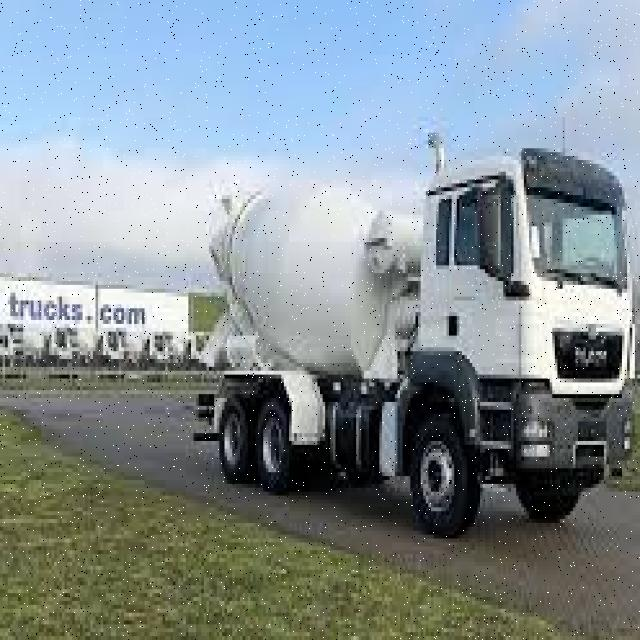Mixer Truck: (192, 143, 638, 543)
